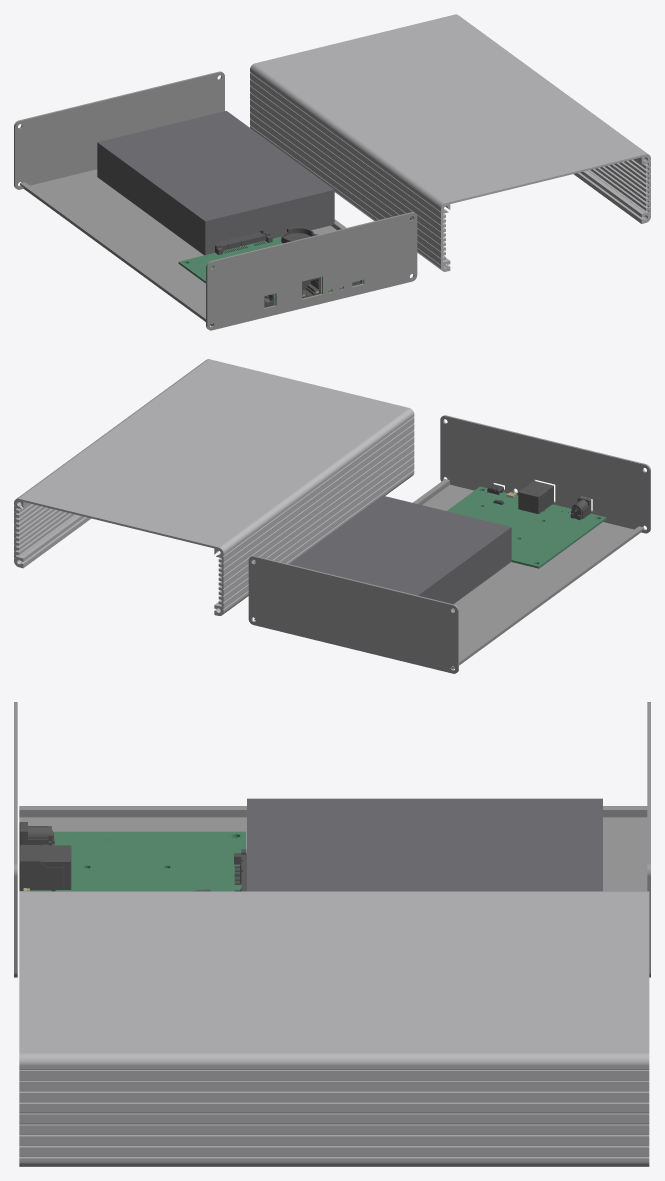
File: assembly-wide.glb
3 views of the same model, one above another, from view 1: azimuth 30°, elevation 25°; view 2: azimuth 150°, elevation 25°; view 3: azimuth 270°, elevation 25° (orthographic). The views are drawn at different scales.
Parts seen in each view (by area): view 1: Case, HDD, EndPlate_Front, EndPlate_Back, BellyPlate, PCB_Conn, PCB_Board; view 2: Case, EndPlate_Back, HDD, EndPlate_Front, BellyPlate, PCB_Board, PCB_Conn; view 3: Case, HDD, PCB_Board, BellyPlate, PCB_Conn, EndPlate_Front, EndPlate_Back.
Boxes of the visible parts, x1,y1,x2,y2 form: Case: (250,14,650,271); HDD: (97,111,334,255); EndPlate_Front: (206,212,417,330); EndPlate_Back: (14,71,224,189); BellyPlate: (20,169,346,326); PCB_Conn: (215,227,320,307); PCB_Board: (178,236,363,305); Case: (14,359,414,615); EndPlate_Back: (248,555,458,673); HDD: (289,495,511,604); EndPlate_Front: (440,415,650,533); BellyPlate: (254,479,643,669); PCB_Board: (447,486,606,568); PCB_Conn: (518,481,591,519); Case: (19,891,649,1166); HDD: (247,798,602,891); PCB_Board: (30,831,245,891); BellyPlate: (19,806,647,891); PCB_Conn: (19,822,246,891); EndPlate_Front: (14,702,17,977); EndPlate_Back: (647,702,650,977).
Size of the model in its own units: 0.35 by 0.0515 by 0.263.
